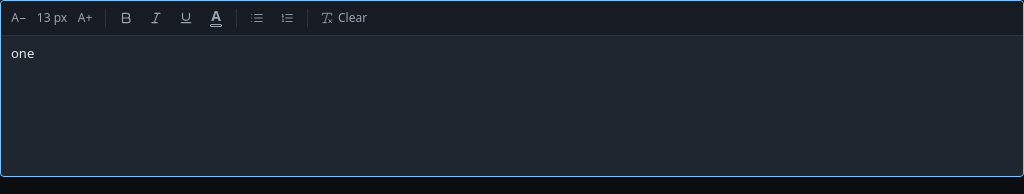
Test: pending size at a bare caret (A- / A+ like Word) › repeated A+ steps a pending size from the current value, shows it at once, and sizes only what is typed next
What coordinates should you click on to do the following:
click the button named "Larger text"
I would click on:
 (85, 18)
Its box is x1=71 y1=5 x2=99 y2=31.
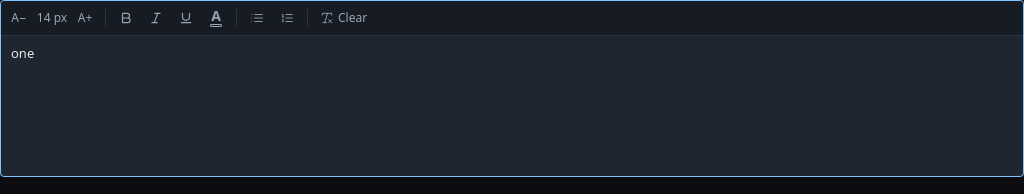
What coordinates should you click on to do the following:
click the button named "Larger text"
I would click on:
 (85, 18)
Its box is x1=71 y1=5 x2=99 y2=31.
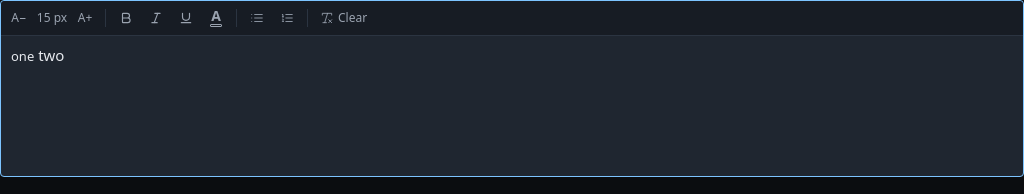
What coordinates should you click on to do the following:
click the button named "Smaller text"
I would click on:
 (19, 18)
Its box is x1=5 y1=5 x2=33 y2=31.
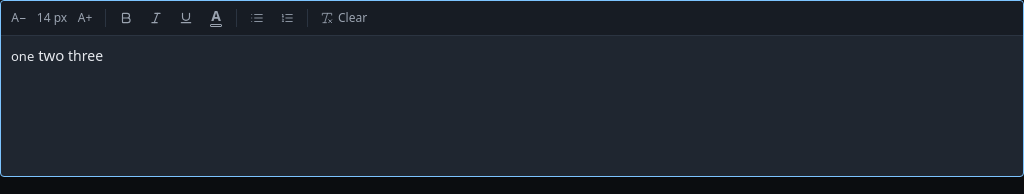
Check: the field named "Body" reads "one two three", box x1=11 y1=45 x2=103 y2=65
